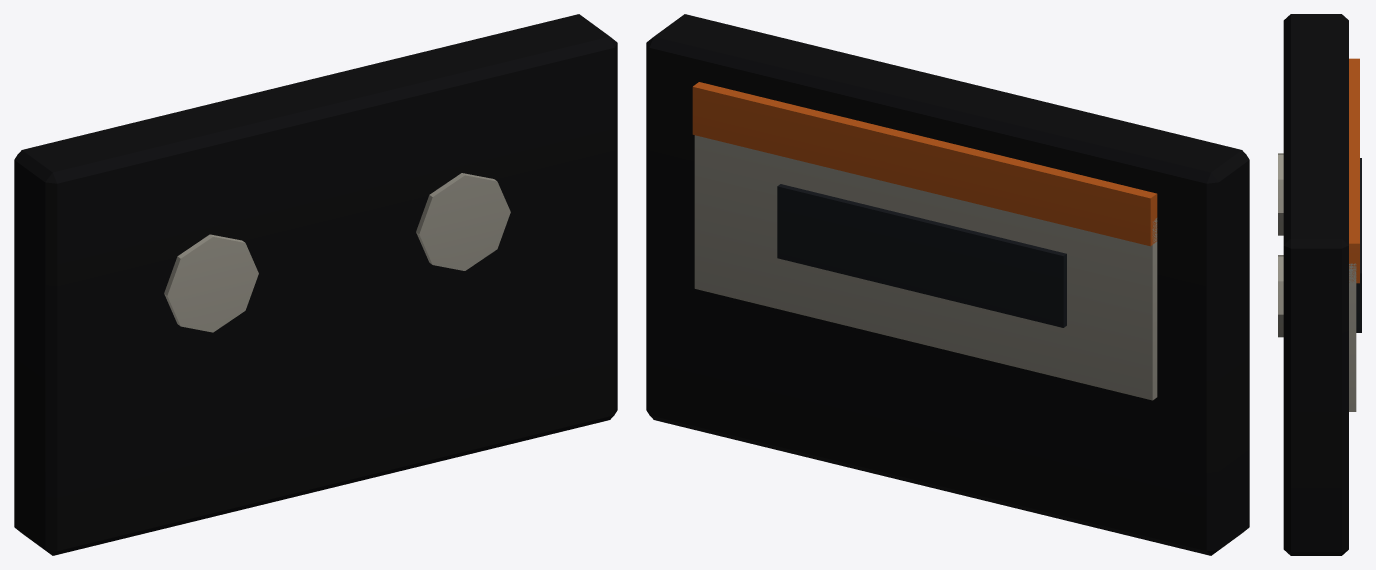
The model's file is tape_cassette.glb.
The picture shows the model from 3 angles, left to right: view 1: azimuth 30°, elevation 25°; view 2: azimuth 150°, elevation 25°; view 3: azimuth 270°, elevation 25°; orthographic projection. The views are drawn at different scales.
Parts seen in each view (by area): view 1: tape_cassette; view 2: tape_cassette; view 3: tape_cassette.
Boxes of the visible parts, <box> form: tape_cassette: <box>14,14,617,555</box>; tape_cassette: <box>646,14,1249,555</box>; tape_cassette: <box>1278,14,1361,555</box>.
Size of the model in its own units: 0.3 by 0.192 by 0.046.
